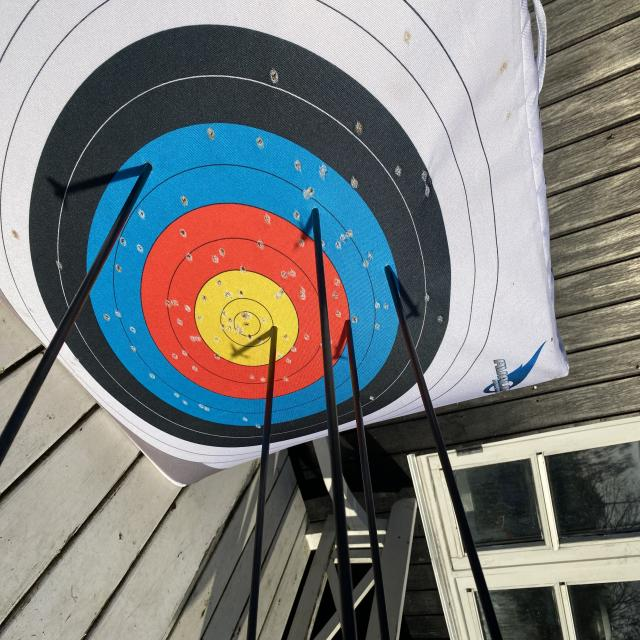Arrow_Blue: (128, 147, 176, 211), (298, 198, 340, 240), (374, 247, 404, 290)
Arrow_Red: (339, 303, 363, 348)
Arrow_Yellow: (258, 316, 298, 359)
